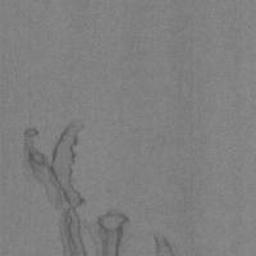Water spot: (19, 115, 145, 256), (152, 229, 177, 256)
